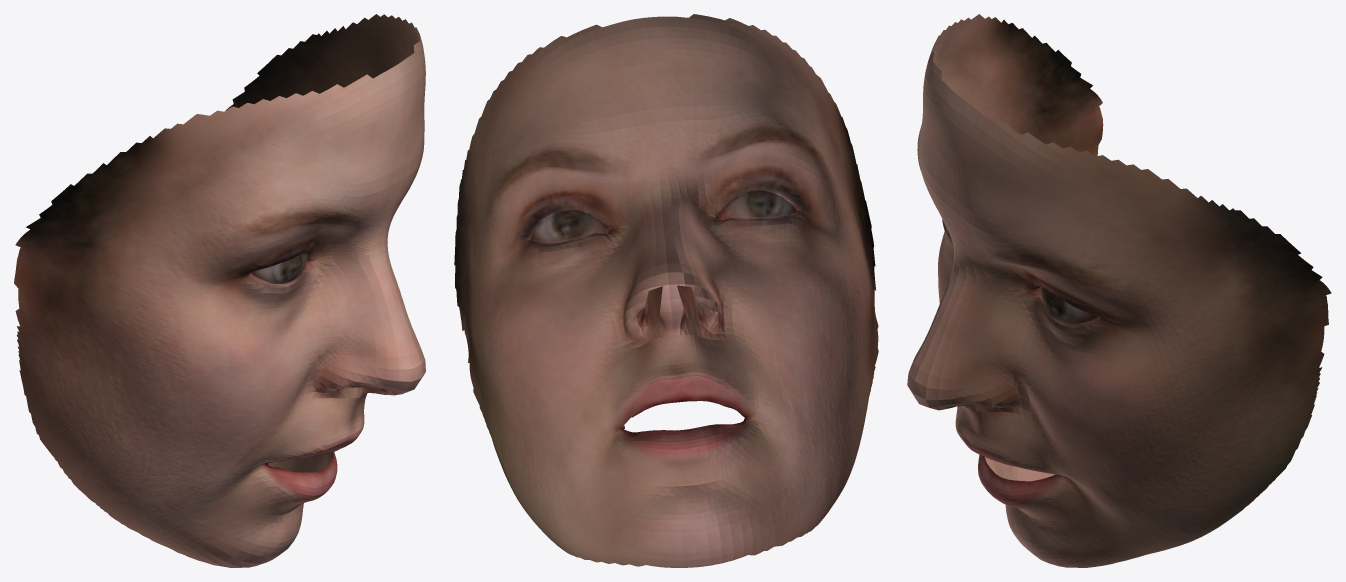
File: frame_928_mesh.obj
3 views of the same model, side by side, from view 1: azimuth 30°, elevation 25°; view 2: azimuth 150°, elevation 25°; view 3: azimuth 270°, elevation 25° (orthographic). The views are drawn at different scales.
Size of the model in its own units: 1.36 by 1.7 by 1.27.
